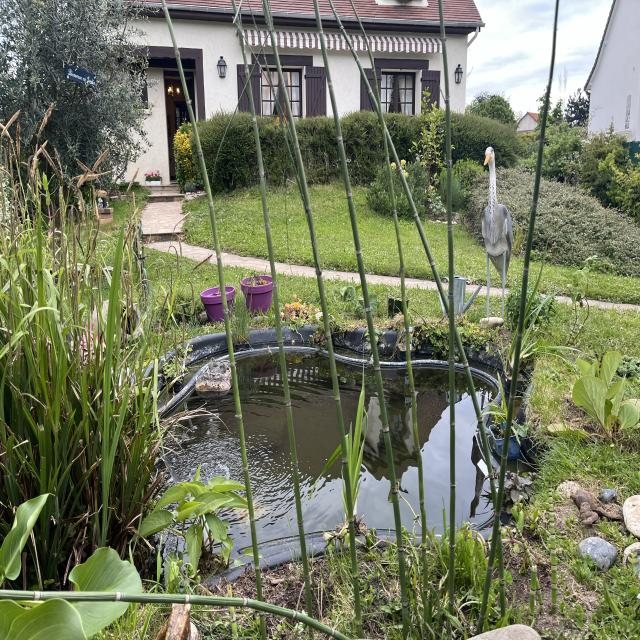Heron: (470, 132, 527, 342)
